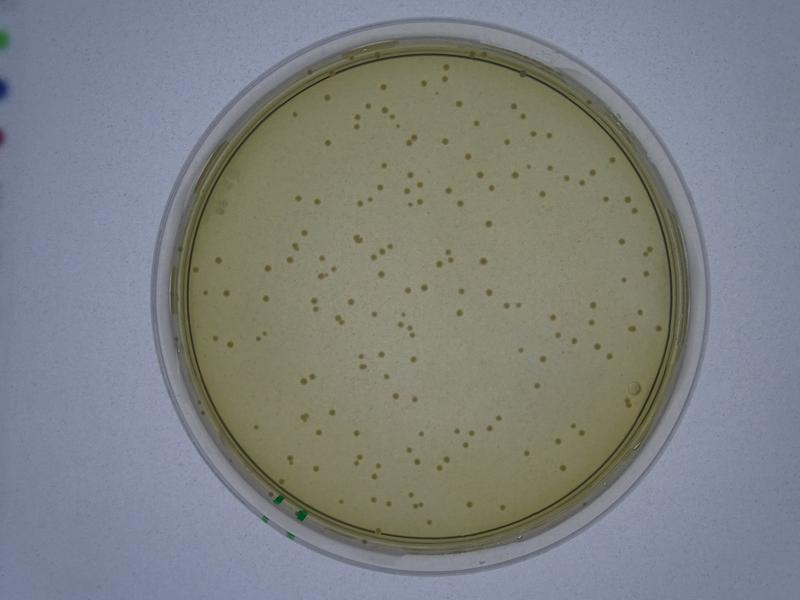colony: (537, 185, 549, 200), (408, 392, 420, 406), (462, 499, 476, 511), (346, 293, 357, 308), (475, 255, 488, 267), (326, 406, 338, 419), (261, 262, 273, 274), (375, 268, 387, 280), (616, 235, 627, 248), (322, 137, 333, 150), (482, 287, 493, 300), (462, 149, 472, 163), (421, 280, 429, 297), (454, 308, 466, 319), (539, 351, 548, 365), (482, 218, 493, 229), (212, 255, 224, 265), (261, 293, 270, 306), (312, 195, 320, 208), (533, 381, 542, 392), (292, 193, 301, 203), (593, 341, 602, 351), (226, 338, 233, 350)
